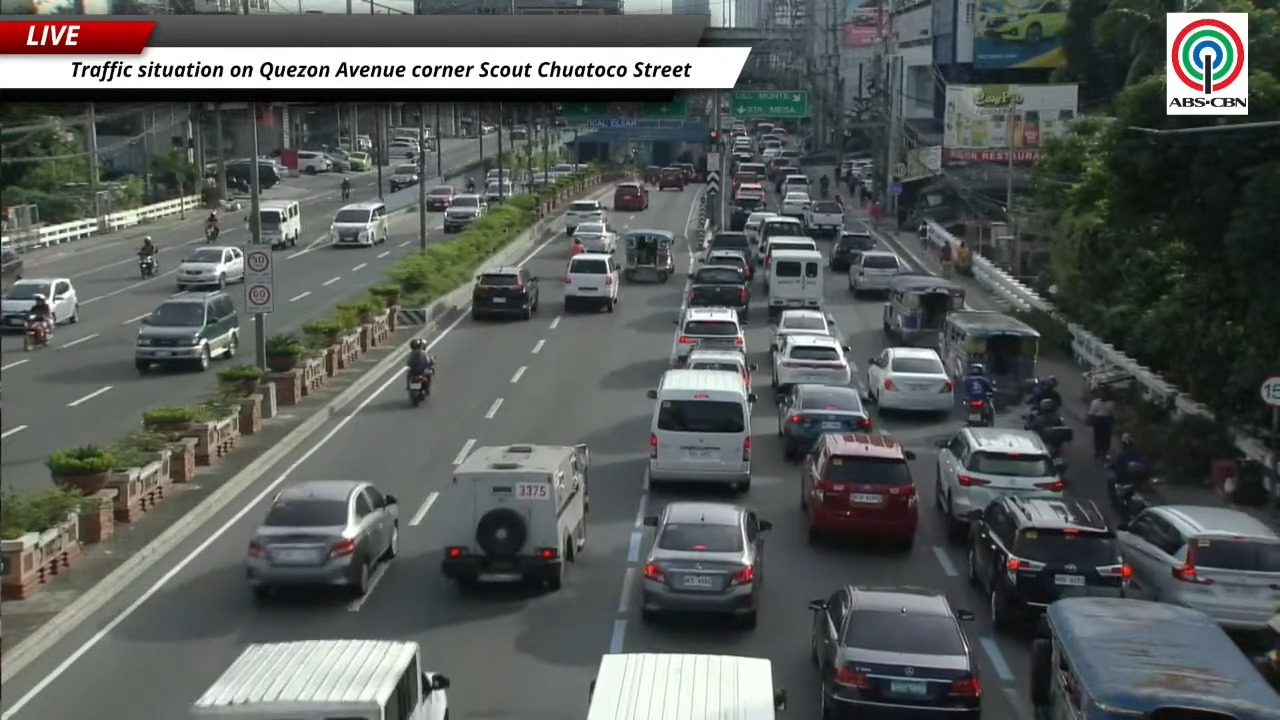car: (809, 586, 981, 719), (966, 495, 1131, 630), (439, 444, 589, 591), (1117, 504, 1279, 631), (246, 480, 398, 598), (642, 502, 771, 627), (935, 427, 1063, 538), (800, 433, 918, 545), (134, 291, 239, 372), (778, 384, 871, 458), (867, 347, 954, 412), (772, 334, 852, 392), (674, 307, 745, 365), (0, 277, 77, 329), (980, 0, 1067, 46), (471, 266, 538, 319), (564, 252, 619, 312), (176, 246, 245, 290), (685, 349, 756, 390), (329, 200, 388, 247), (847, 250, 908, 295), (771, 309, 839, 348), (829, 231, 876, 271), (442, 194, 487, 233), (704, 250, 754, 280), (703, 231, 751, 261), (565, 200, 606, 235), (573, 222, 616, 254), (727, 199, 767, 231), (743, 212, 776, 244), (0, 245, 23, 290), (613, 182, 648, 211), (780, 191, 810, 221), (770, 164, 802, 192), (389, 164, 419, 192), (224, 161, 252, 191), (297, 151, 333, 173), (484, 179, 514, 205), (427, 186, 455, 211), (731, 169, 761, 192), (656, 167, 686, 190), (780, 173, 811, 194), (387, 139, 421, 157), (326, 149, 350, 172), (674, 163, 702, 182), (734, 183, 765, 200), (346, 151, 372, 171), (642, 166, 662, 185), (509, 125, 529, 141), (760, 146, 780, 160)
motorcycle: (1111, 477, 1162, 524), (1037, 424, 1073, 466), (23, 315, 48, 351), (965, 395, 994, 426), (408, 372, 432, 405), (139, 255, 158, 279), (206, 226, 219, 243), (341, 186, 350, 202), (820, 184, 829, 198), (465, 181, 475, 193)
truck: (687, 264, 750, 320), (805, 200, 844, 236)
